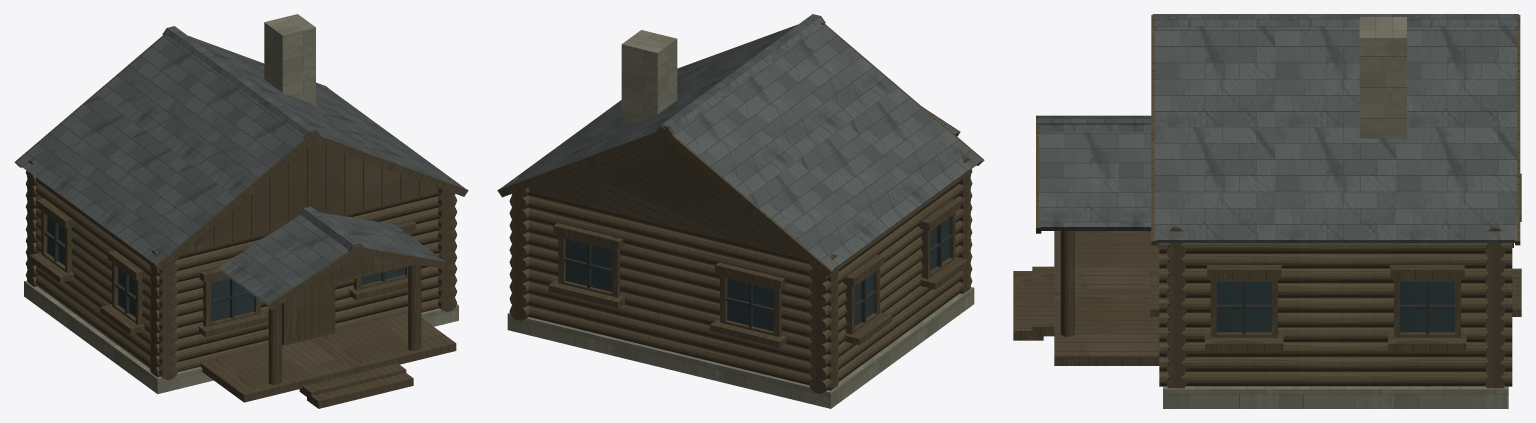
File: forest-cabin.glb
3 renders of one model, left to right at view 1: azimuth 30°, elevation 25°; view 2: azimuth 150°, elevation 25°; view 3: azimuth 270°, elevation 25°, orthographic. The views are drawn at different scales.
Visible parts, largest first — view 1: forest-cabin.001; view 2: forest-cabin.001; view 3: forest-cabin.001.
Boxes of the visible parts, left/top/right/bottom form: forest-cabin.001: left=14, top=14, right=468, bottom=408; forest-cabin.001: left=497, top=14, right=984, bottom=408; forest-cabin.001: left=1013, top=14, right=1521, bottom=408.
Size of the model in its own units: 5.69 by 4.28 by 6.
Materials: 1 (1 with a texture image).
